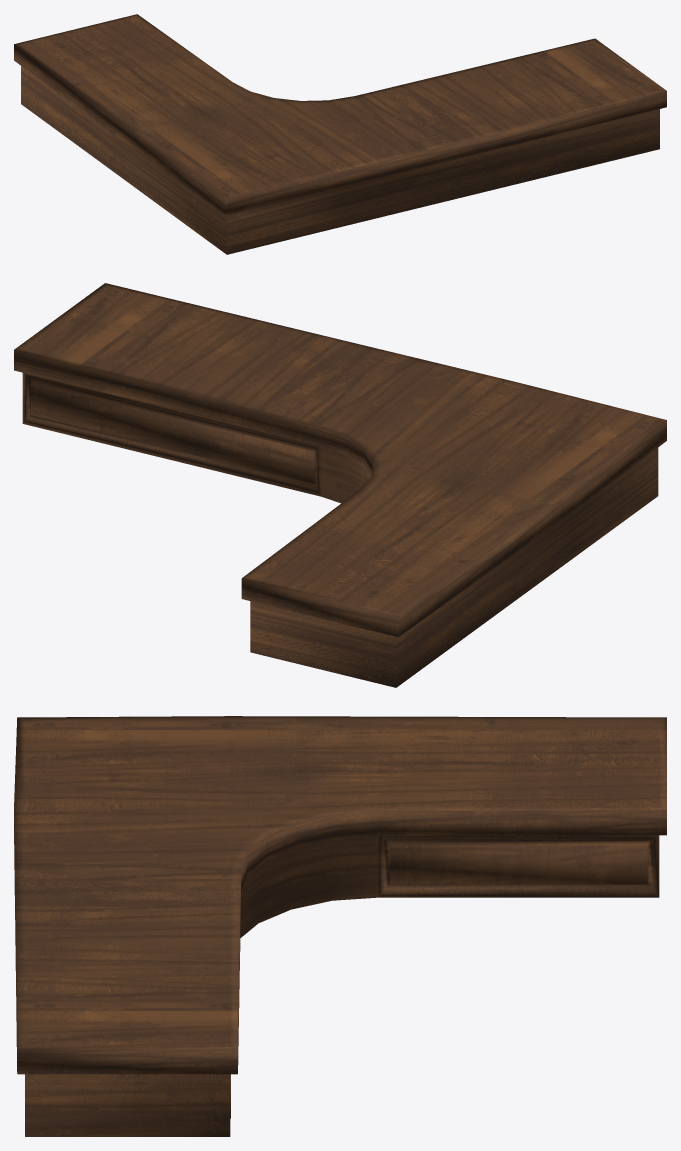
The model's file is SecondShop_Desk.glb.
The picture shows the model from 3 angles, top to bottom: view 1: azimuth 30°, elevation 25°; view 2: azimuth 150°, elevation 25°; view 3: azimuth 270°, elevation 25°; orthographic projection. The views are drawn at different scales.
Parts seen in each view (by area): view 1: Desk_SecondShop; view 2: Desk_SecondShop; view 3: Desk_SecondShop.
Part boxes in pixels (left/top/right/bottom): Desk_SecondShop: left=14, top=14, right=666, bottom=254; Desk_SecondShop: left=14, top=283, right=666, bottom=687; Desk_SecondShop: left=14, top=716, right=666, bottom=1136.
Bounding box in the file's own units: 1.68 × 0.2137 × 1.39.
1 material, 1 textured.
